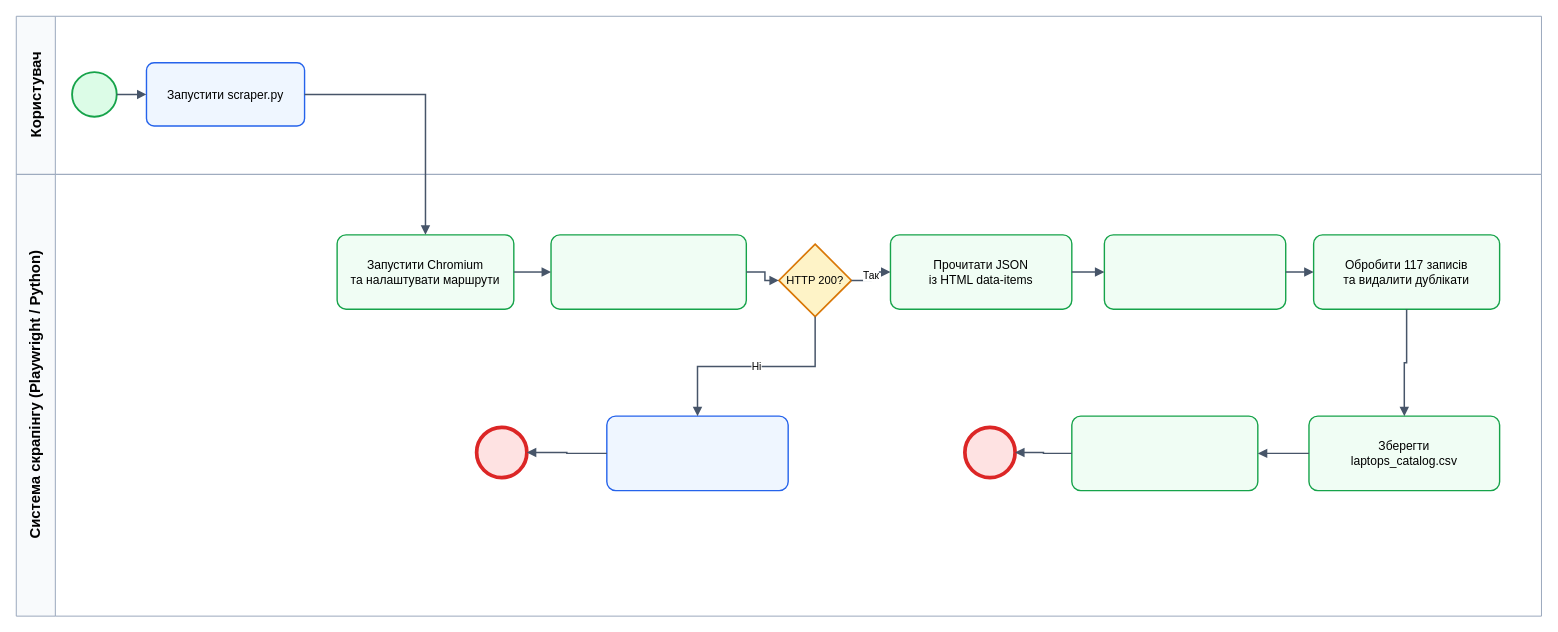
This 1558x632 diagram has some shape labels left out. Here are the shapes that lost their labels. From the top down, the centre of each, then its label:
At (648,272): "Відкрити каталог і перехопити HTTP-відповідь".
At (1194,272): "Перевірити UI-пагінацію (сторінки 2–5)".
At (697,453): "Вивести повідомлення про помилку".
At (1164,453): "Вивести результат у терміналі".
